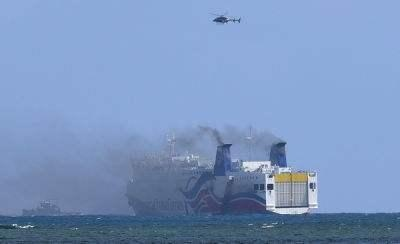Cargoship: (124, 132, 316, 226)
airplane: (210, 7, 243, 27)
